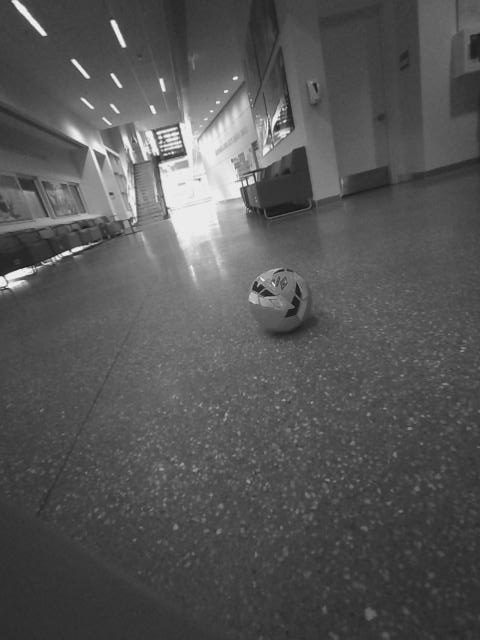ball: (243, 260, 319, 339)
